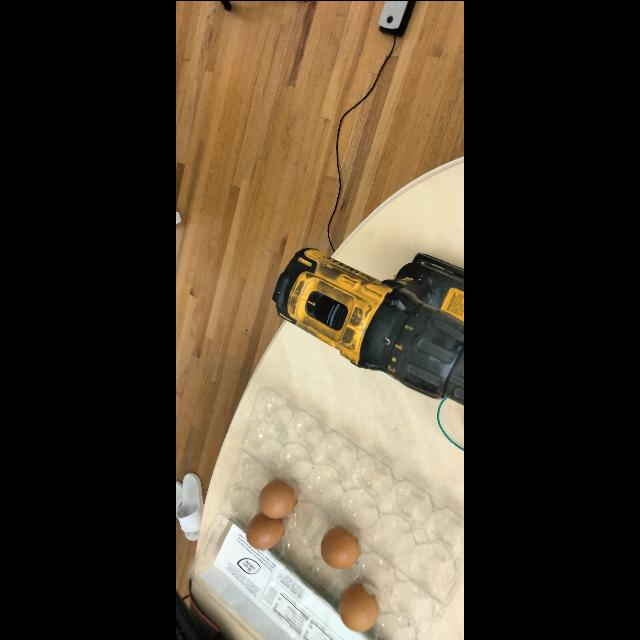Egg: (333, 577, 385, 633), (318, 518, 367, 570), (255, 476, 301, 522), (242, 506, 290, 550)
